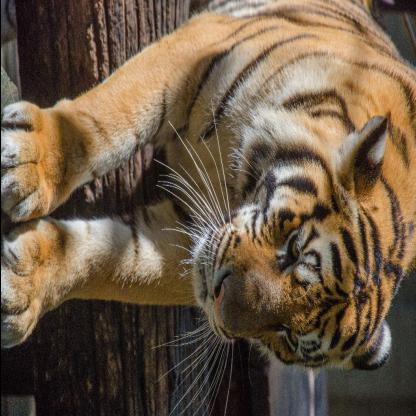tiger: (187, 131, 398, 387)
